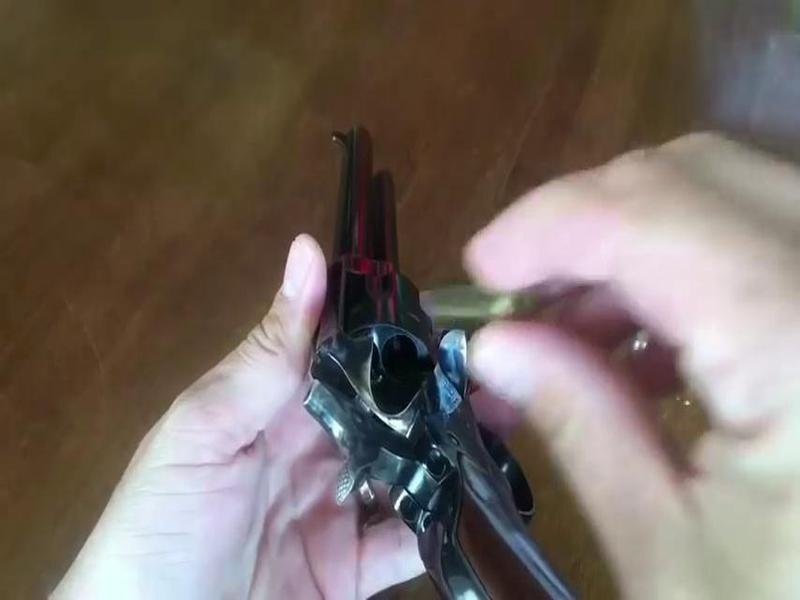Revolver: (250, 108, 508, 600)
